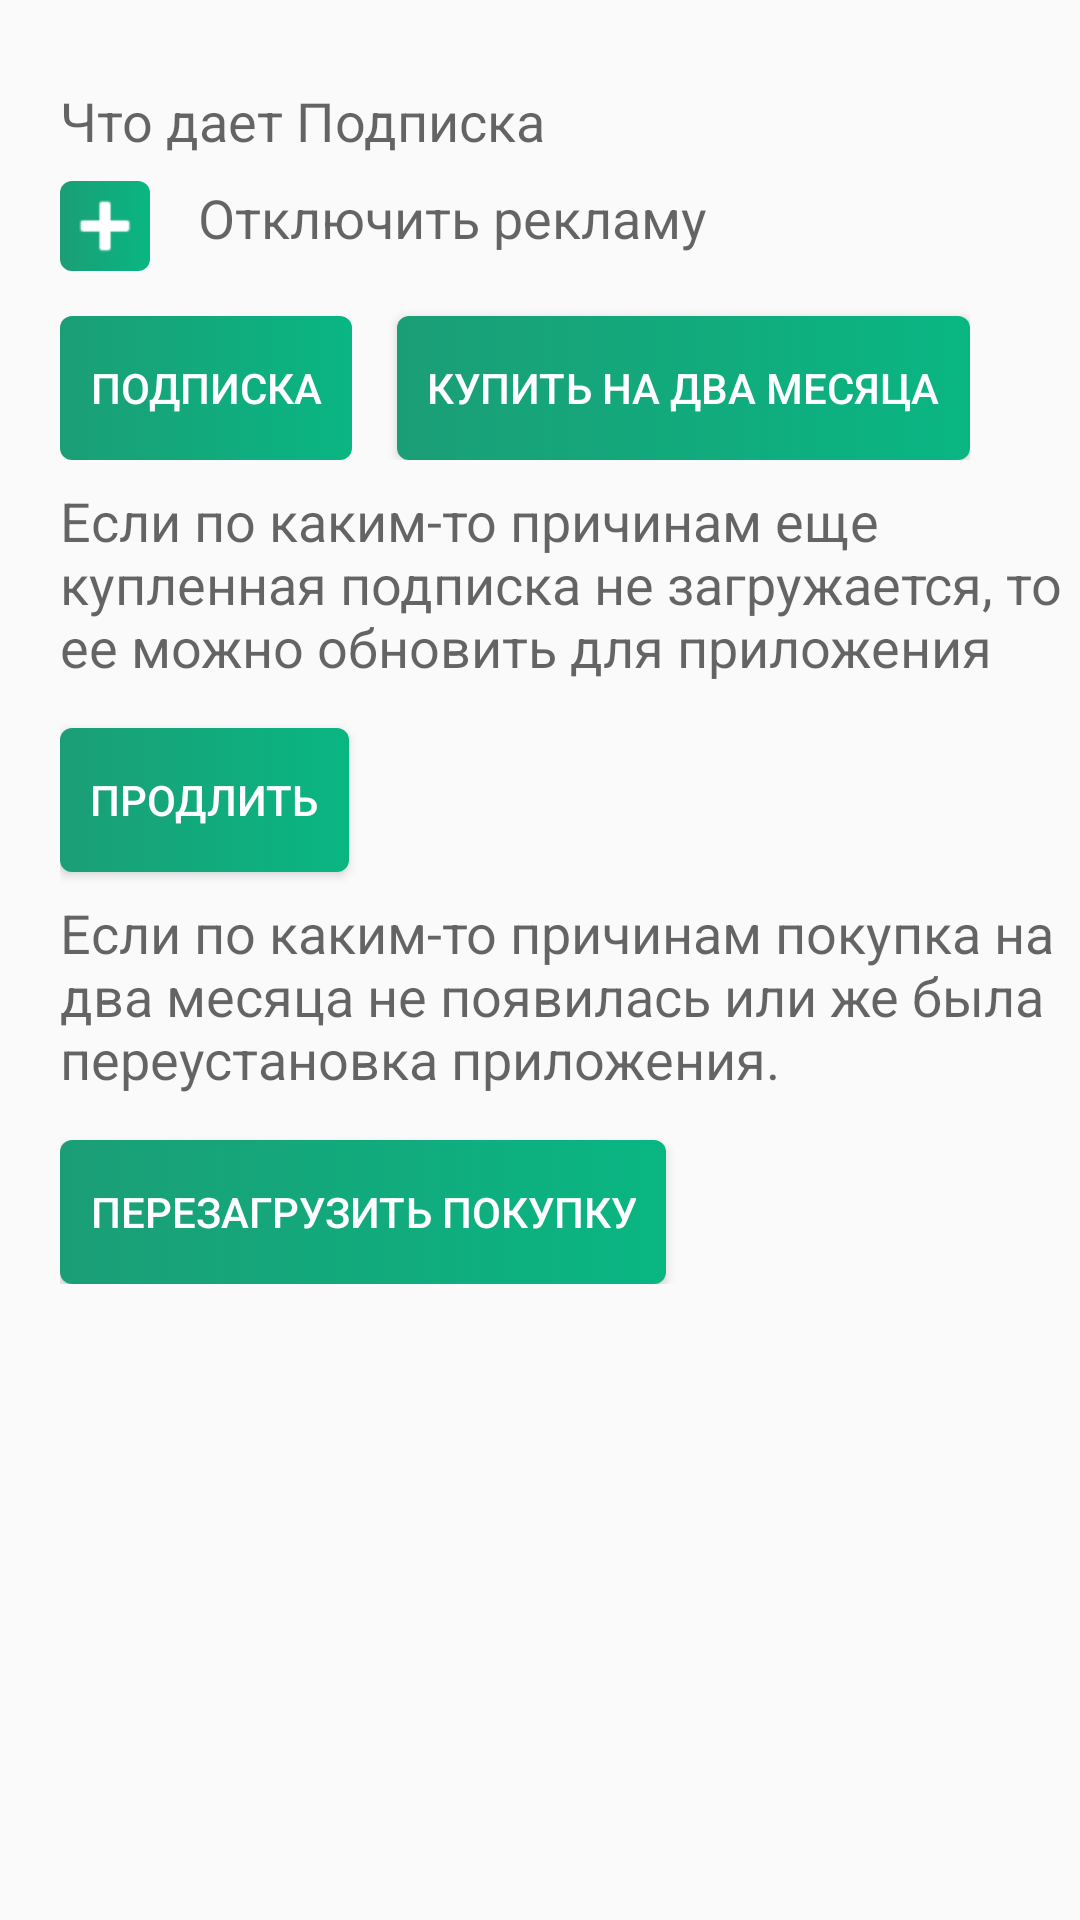

Locate icon controls on the screen. Image size 1080×1920, boxes as (x1, y1, x2, y2).
add: (60, 181, 150, 271)
